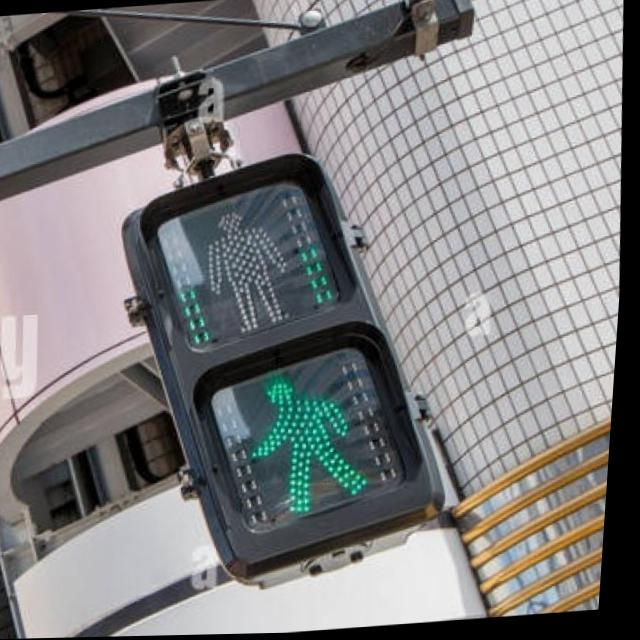green_light: (229, 366, 393, 519)
